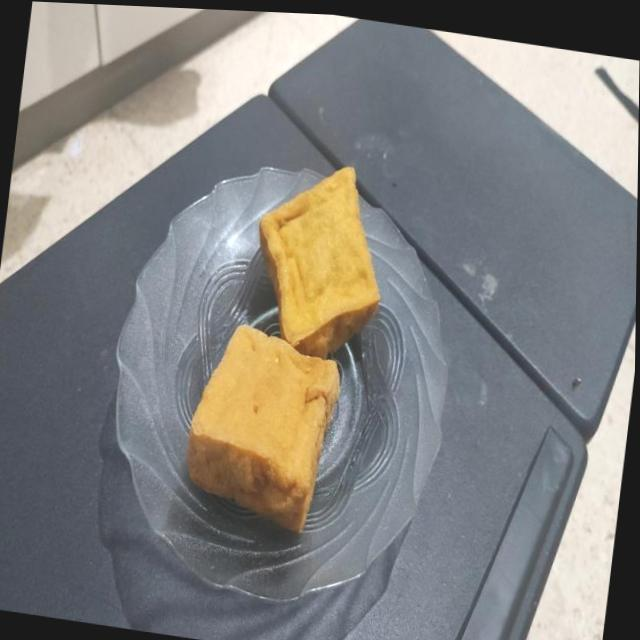tahu_goreng: (187, 324, 339, 532), (258, 167, 379, 358)
